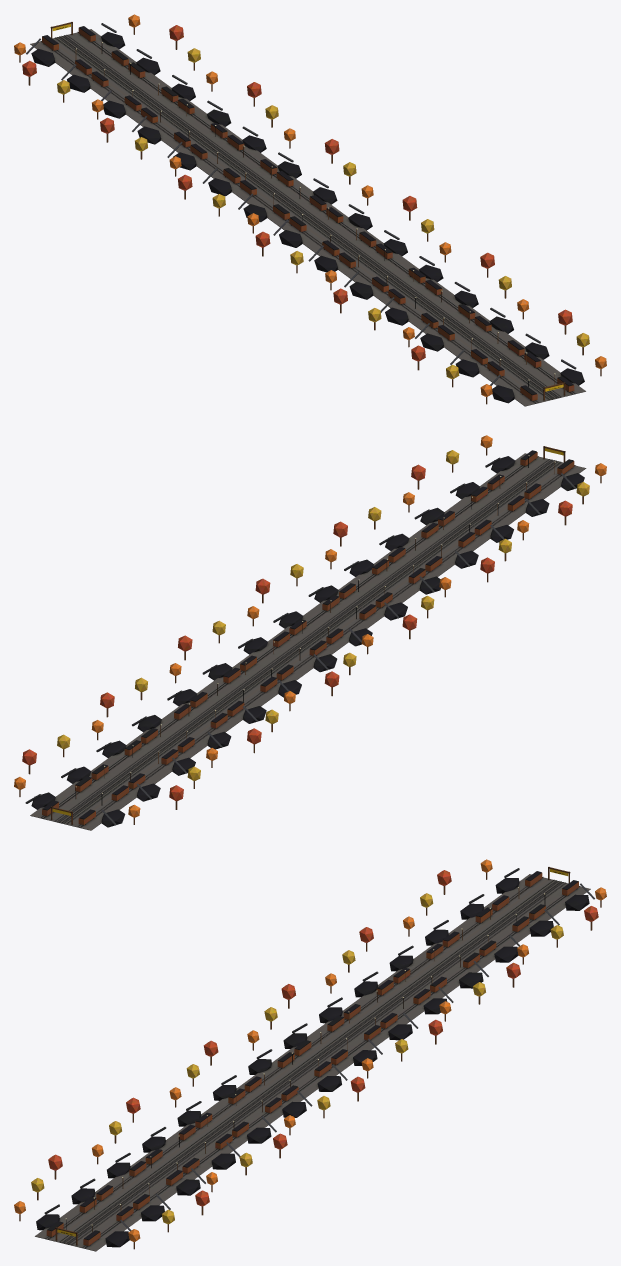
File: patio_carbon.glb
3 renders of one model, top to bottom at view 1: azimuth 30°, elevation 25°; view 2: azimuth 150°, elevation 25°; view 3: azimuth 330°, elevation 25°, orthographic.
Visible parts, largest first — view 1: patio_carbon; view 2: patio_carbon; view 3: patio_carbon.
Boxes of the visible parts, x1,y1,x2,y2 form: patio_carbon: (14,14,606,406); patio_carbon: (14,435,606,830); patio_carbon: (14,859,606,1251).
Size of the model in its own units: 78.3 by 14.32 by 420.
1 material, 1 textured.
